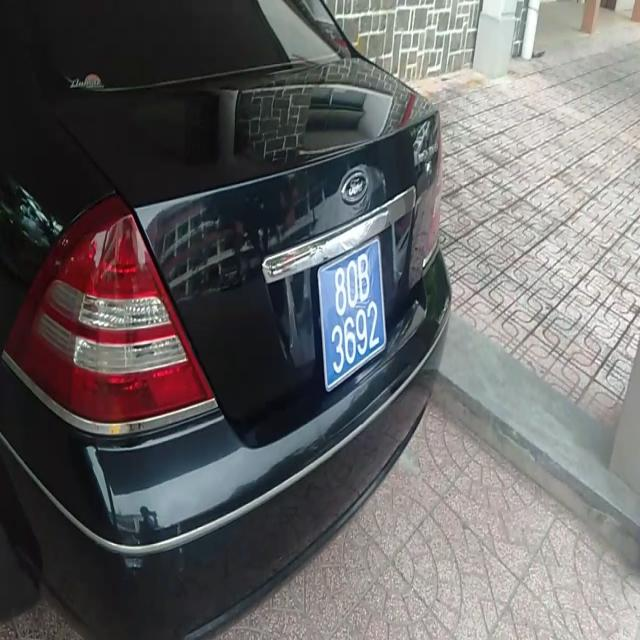bien_xanh: (312, 238, 389, 384)
